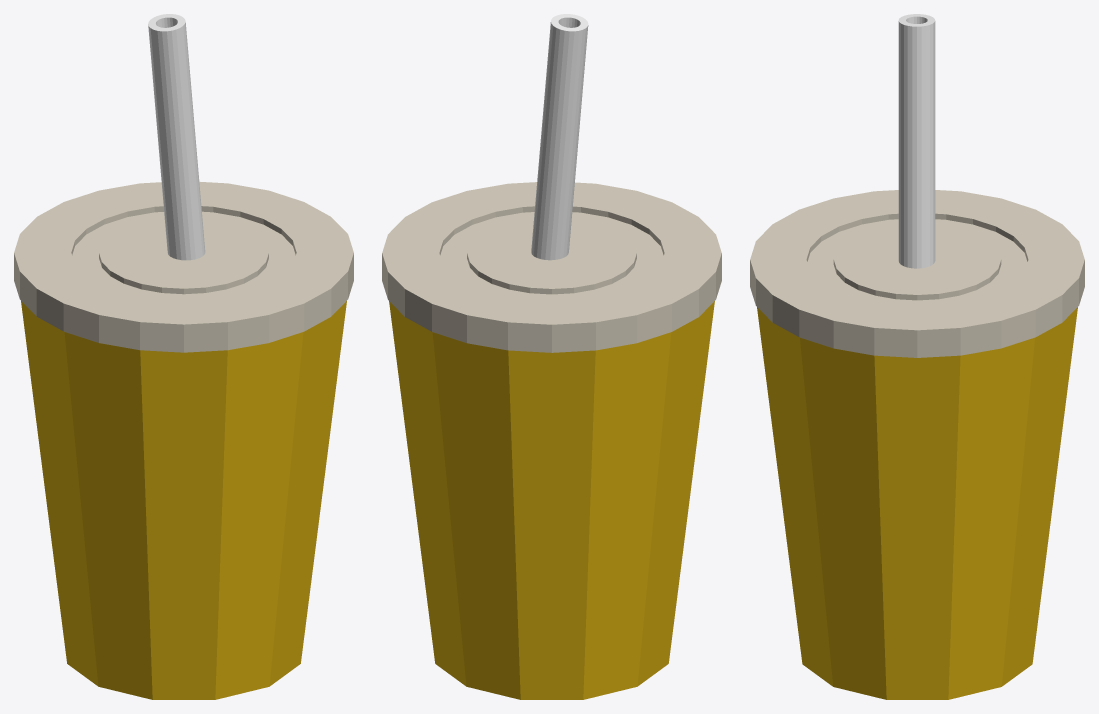
File: Fast Food Cup 2.obj
3 renders of one model, left to right at view 1: azimuth 30°, elevation 25°; view 2: azimuth 150°, elevation 25°; view 3: azimuth 270°, elevation 25°, orthographic.
Parts seen in each view (by area): view 1: Drink; view 2: Drink; view 3: Drink.
Part boxes in pixels (x1=…): Drink: x1=14, y1=14, x2=353, y2=699; Drink: x1=382, y1=14, x2=721, y2=699; Drink: x1=750, y1=14, x2=1084, y2=699.
Size of the model in its own units: 0.5818 by 1.2 by 0.5818.
